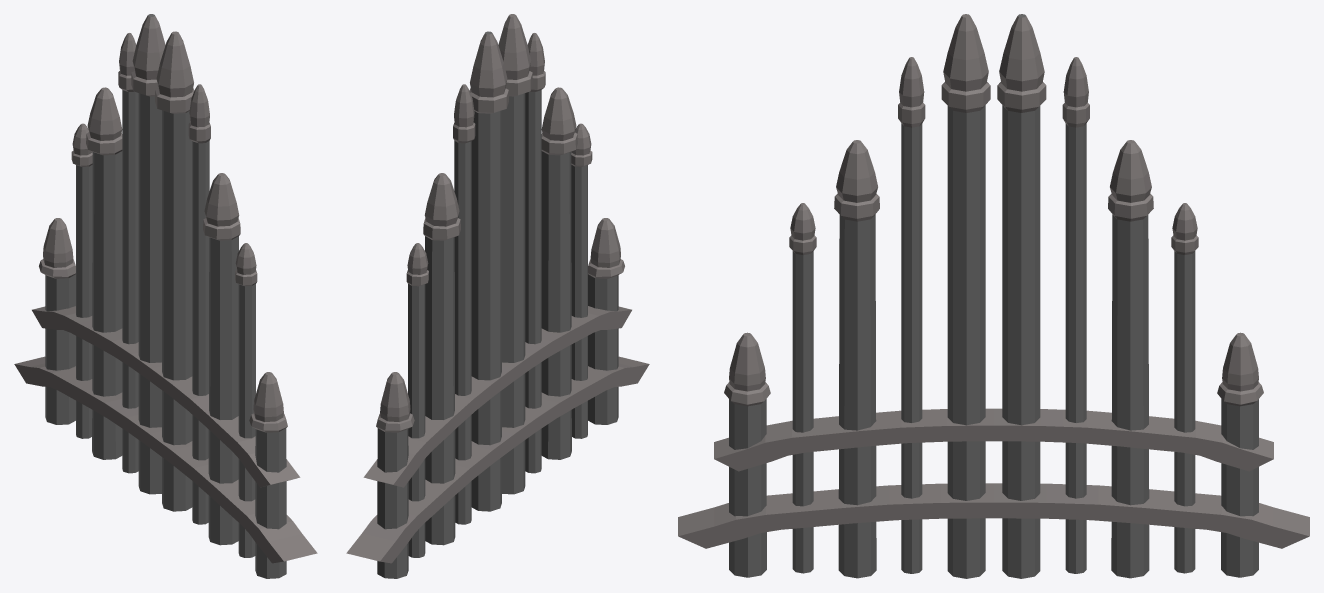
Rendered from Gate.fbx.
3 renders of one model, left to right at view 1: azimuth 30°, elevation 25°; view 2: azimuth 150°, elevation 25°; view 3: azimuth 270°, elevation 25°, orthographic. The views are drawn at different scales.
Parts seen in each view (by area): view 1: Circle; view 2: Circle; view 3: Circle.
Boxes of the visible parts, x1,y1,x2,y2 form: Circle: (14,14,317,578); Circle: (346,14,649,578); Circle: (678,14,1309,578).
Bounding box in the file's own units: 9.65 × 116 × 120.
Materials: 1 (1 with a texture image).
